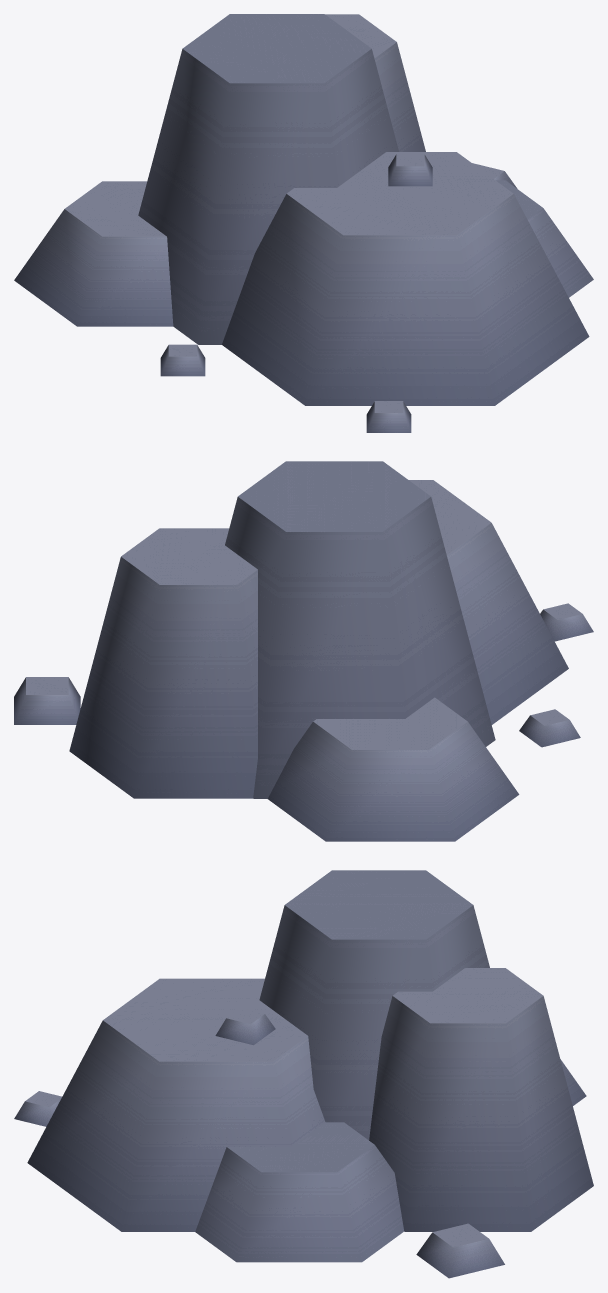
File: rocks-small.glb
3 renders of one model, top to bottom at view 1: azimuth 30°, elevation 25°; view 2: azimuth 150°, elevation 25°; view 3: azimuth 270°, elevation 25°, orthographic. The views are drawn at different scales.
Visible parts, largest first — view 1: rocks-small; view 2: rocks-small; view 3: rocks-small.
Part boxes in pixels (<box>): rocks-small: <box>14,14,593,432</box>; rocks-small: <box>14,461,593,841</box>; rocks-small: <box>14,870,593,1278</box>.
Bounding box in the file's own units: 1.03 × 0.5 × 1.11.
Materials: 1 (1 with a texture image).
